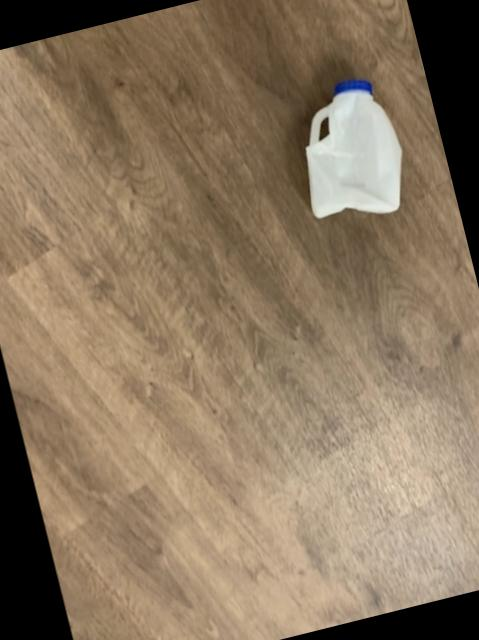plastic: (305, 82, 400, 220)
